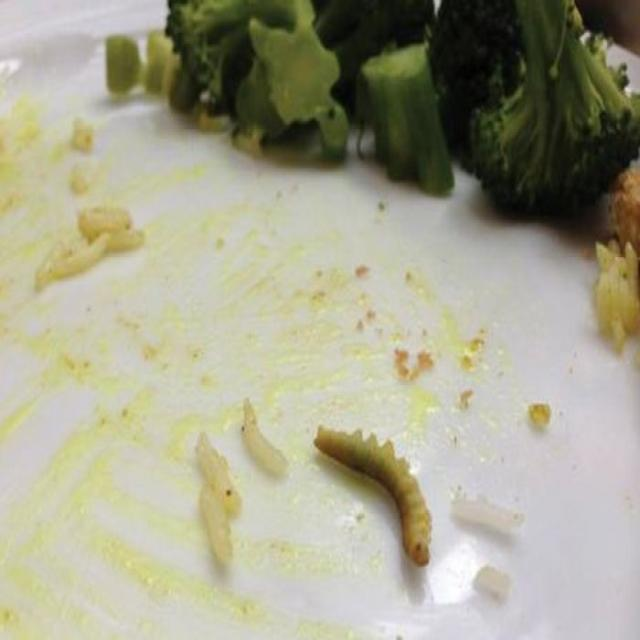worm: (318, 407, 437, 566)
